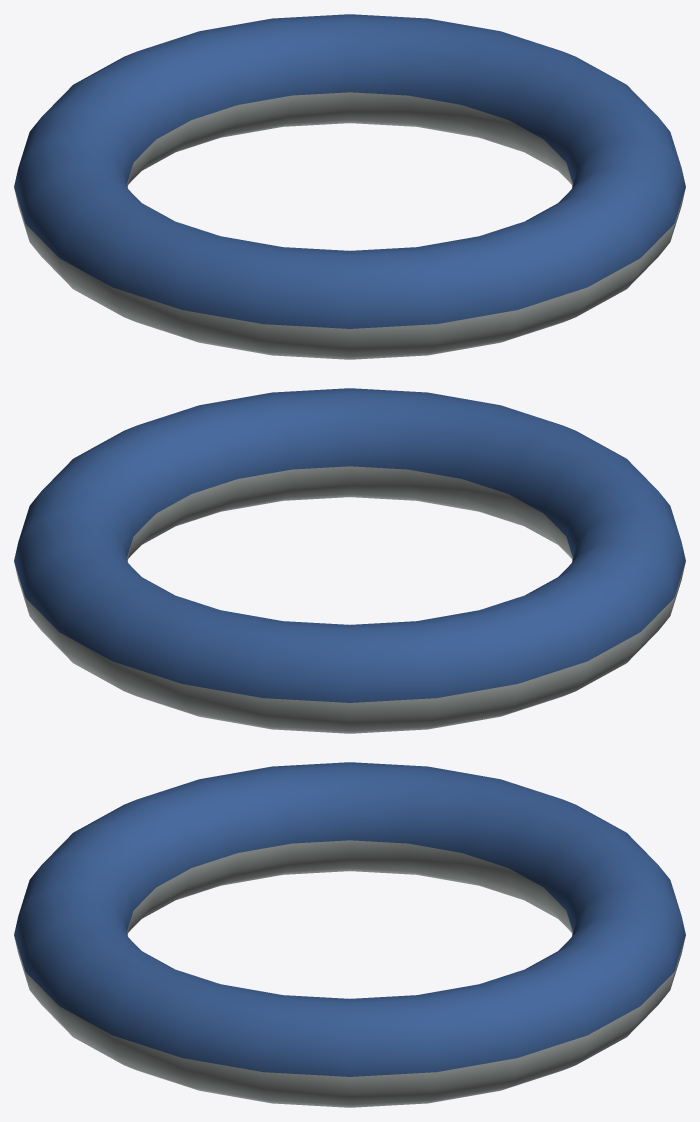
Rendered from MainCircle_blockout.fbx.
The picture shows the model from 3 angles, top to bottom: view 1: azimuth 30°, elevation 25°; view 2: azimuth 150°, elevation 25°; view 3: azimuth 270°, elevation 25°; orthographic projection.
Parts seen in each view (by area): view 1: Maincircle; view 2: Maincircle; view 3: Maincircle.
Part boxes in pixels (x1=…): Maincircle: x1=14, y1=14, x2=685, y2=359; Maincircle: x1=14, y1=388, x2=685, y2=733; Maincircle: x1=14, y1=762, x2=685, y2=1107.
Size of the model in its own units: 324 by 52.34 by 324.
